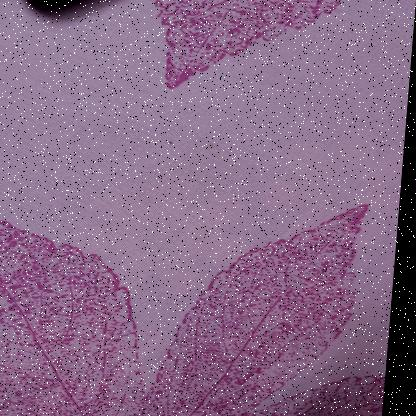spot: (204, 141, 221, 150), (169, 136, 179, 146)
